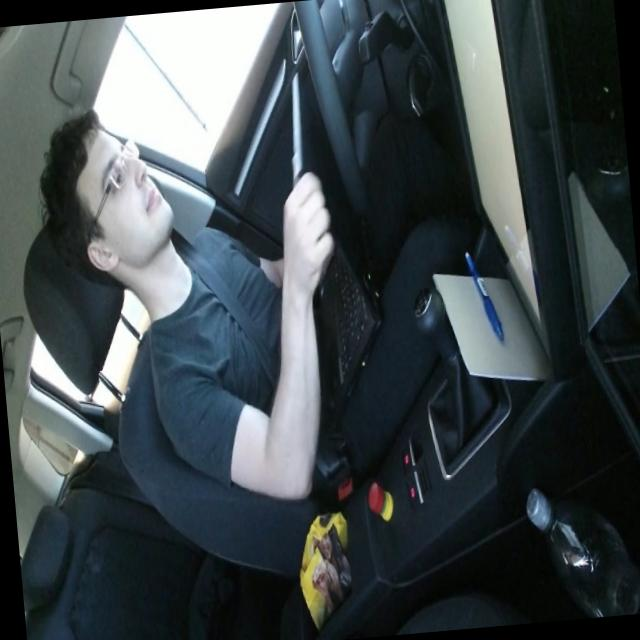pen: (462, 245, 504, 344)
